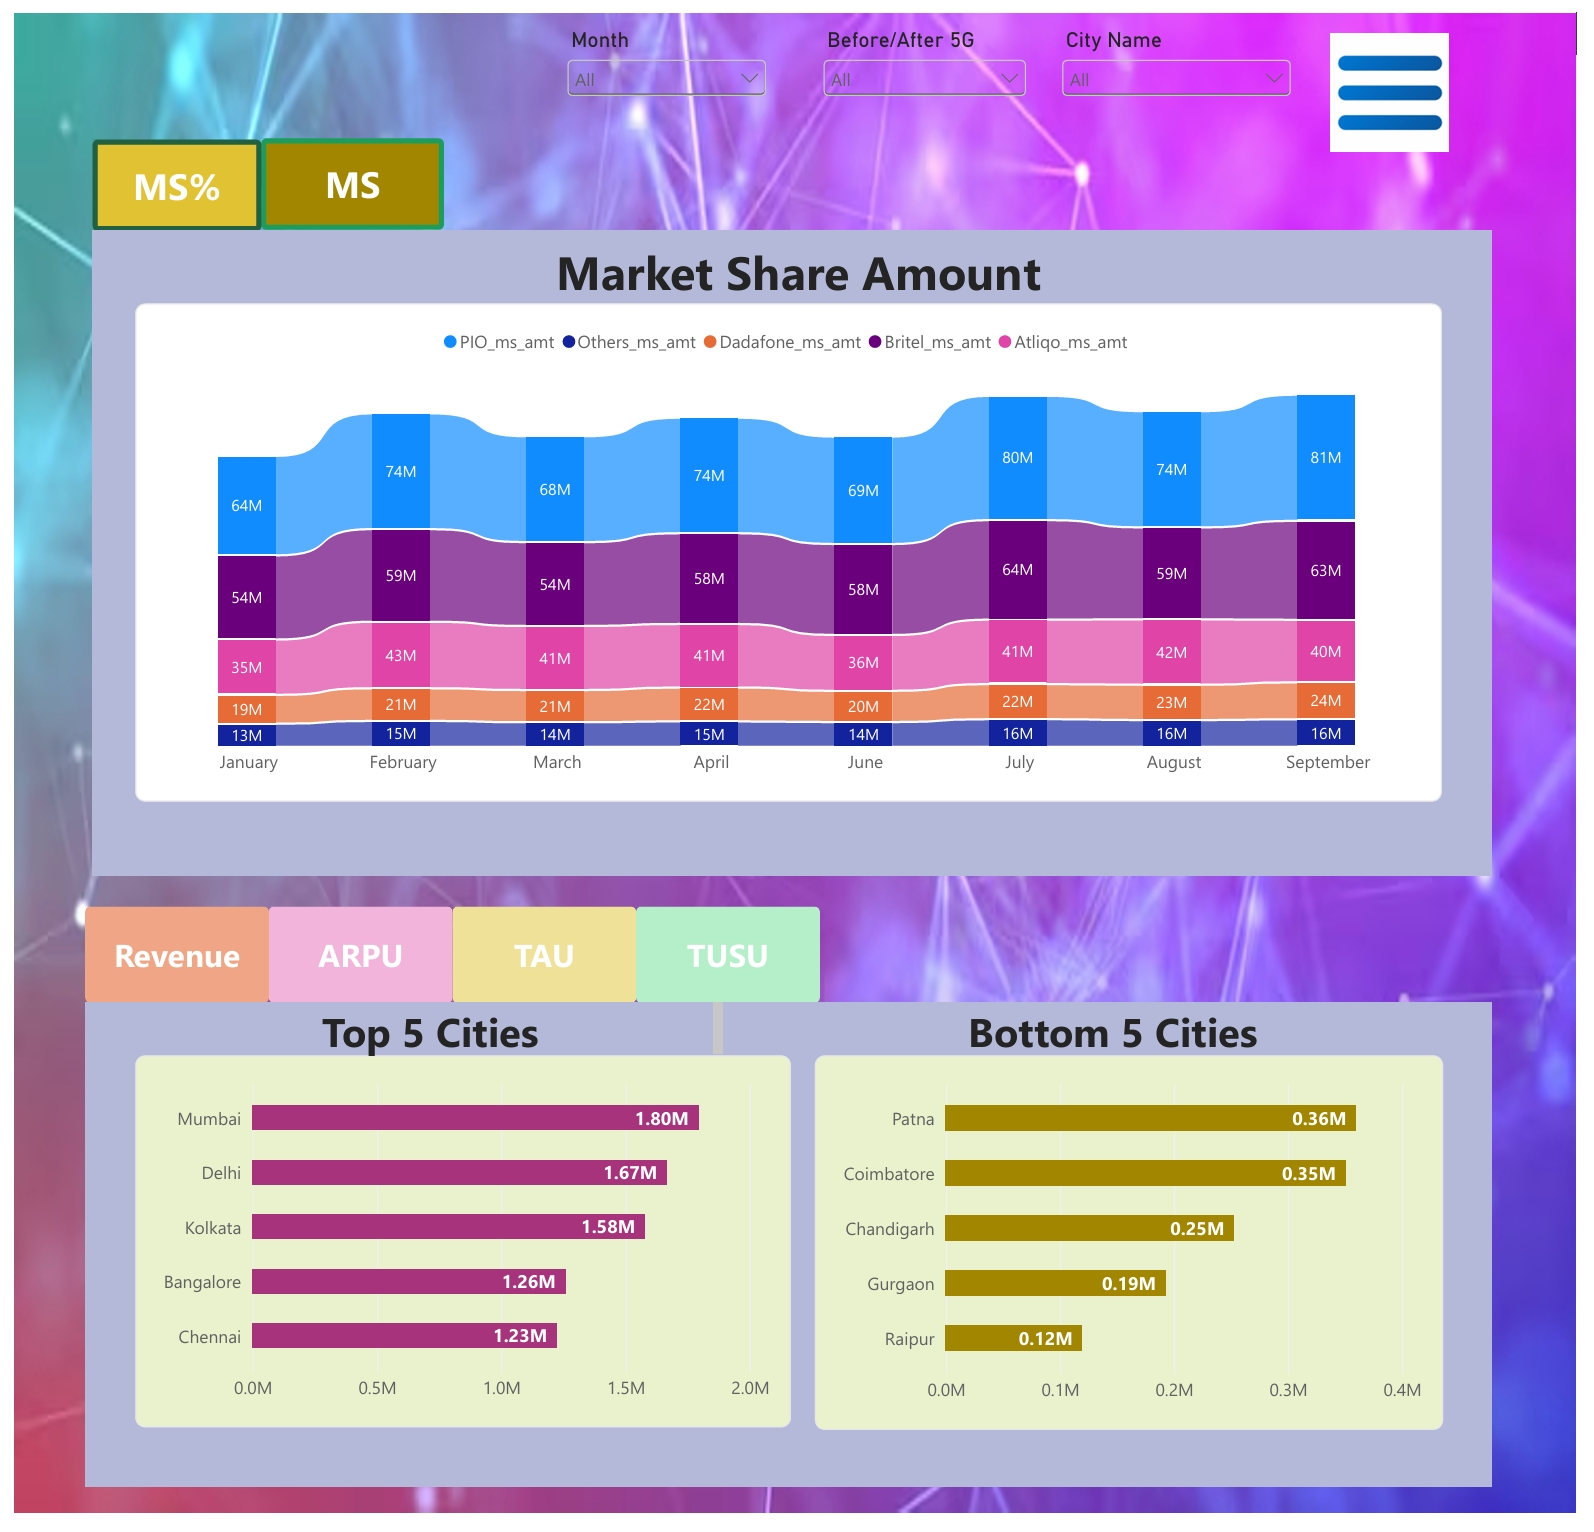

The page's visual inventory and layout, read from the dashboard file:
{"tool":"powerbi","page":{"name":"Market","canvas":[1250,1200],"ordinal":1},"visuals":[{"type":"shape","title":"Rectangle Shape","box":[63,174,1120,517],"z":0,"group":"g1"},{"type":"shape","title":"Rectangle Shape","box":[57,792,1126,388],"z":0},{"type":"shape","title":"Rectangle Shape","box":[57,792,1125,388],"z":0,"group":"g2"},{"type":"actionButton","title":"MS Button","box":[198,100,146.2,72.5],"z":1000},{"type":"ribbonChart","fields":{"Category":["dim_date.date.Variation.Date Hierarchy.Month"],"Y":["Mesaure_Table.PIO_ms_amt","Mesaure_Table.Others_ms_amt","Mesaure_Table.Dadafone_ms_amt","Mesaure_Table.Britel_ms_amt","Mesaure_Table.Atliqo_ms_amt"]},"box":[97,232,1046,399],"z":1000,"group":"g1"},{"type":"clusteredBarChart","fields":{"Category":["dim_cities.city_name"],"Y":["Mesaure_Table.Total_unsub_users"]},"box":[97,834,525,298],"z":1000,"group":"g2"},{"type":"textbox","box":[294,181,668.4,62],"z":2000,"group":"g1"},{"type":"clusteredBarChart","fields":{"Category":["dim_cities.city_name"],"Y":["Mesaure_Table.Total_unsub_users"]},"box":[641,834,503,300],"z":2000,"group":"g2"},{"type":"clusteredBarChart","fields":{"Category":["dim_cities.city_name"],"Y":["Mesaure_Table.ARPU"]},"box":[97,851,505,310],"z":2000},{"type":"actionButton","title":"MS% Button","box":[63,101.2,135,72.5],"z":3000},{"type":"textbox","title":"Top Text","box":[106,792,462.2,41.7],"z":3000,"group":"g2"},{"type":"textbox","title":"Bottom Text","box":[696.2,792,367.2,44.6],"z":4000,"group":"g2"},{"type":"textbox","title":"Top Text","box":[161,803,365,48],"z":5000},{"type":"clusteredBarChart","fields":{"Category":["dim_cities.city_name"],"Y":["Mesaure_Table.ARPU"]},"box":[628,851,521,310],"z":6000},{"type":"group","id":"g1","title":"MS Ribbon","box":[63,174,1120,517],"z":7000},{"type":"textbox","title":"Bottom Text","box":[750,803,283,42],"z":8000},{"type":"actionButton","title":"Revenue Button","box":[57,715,147.4,77.2],"z":9000},{"type":"actionButton","title":"ARPU Button","box":[204,715,147.4,77.2],"z":10000},{"type":"actionButton","title":"TAU Button","box":[351,715,147.4,77.2],"z":11000},{"type":"actionButton","title":"AUSU Button","box":[498,715,147.4,77.2],"z":12000},{"type":"group","id":"g2","title":"5AUSU","box":[57,792,1125,388],"z":15000},{"type":"slicer","fields":{"Values":["dim_date.date.Variation.Date Hierarchy.Month"]},"box":[438,11.2,168.8,82.5],"z":16000},{"type":"slicer","fields":{"Values":["dim_date.before/after_5g"]},"box":[643,11.2,172.5,82.5],"z":17000},{"type":"slicer","fields":{"Values":["dim_cities.city_name"]},"box":[834.2,11.2,192.5,82.5],"z":18000},{"type":"image","title":"Main 3 Image","box":[1054,11,94.6,105.4],"z":19000}]}

Visuals, with their boxes in screenshot pixels (x1, y1, x2, y2), scaled from the page's 1250x1200 canvas onto the 1594x1532 screenshot:
"Rectangle Shape" shape: detection(80, 222, 1509, 882)
"Rectangle Shape" shape: detection(73, 1011, 1509, 1506)
"Rectangle Shape" shape: detection(73, 1011, 1507, 1506)
"MS Button" actionButton: detection(252, 128, 439, 220)
ribbonChart - dim_date.date.Variation.Date Hierarchy.Month x Mesaure_Table.PIO_ms_amt: detection(124, 296, 1458, 806)
clusteredBarChart - dim_cities.city_name x Mesaure_Table.Total_unsub_users: detection(124, 1065, 793, 1445)
textbox: detection(375, 231, 1227, 310)
clusteredBarChart - dim_cities.city_name x Mesaure_Table.Total_unsub_users: detection(817, 1065, 1459, 1448)
clusteredBarChart - dim_cities.city_name x Mesaure_Table.ARPU: detection(124, 1086, 768, 1482)
"MS% Button" actionButton: detection(80, 129, 252, 222)
"Top Text" textbox: detection(135, 1011, 725, 1064)
"Bottom Text" textbox: detection(888, 1011, 1356, 1068)
"Top Text" textbox: detection(205, 1025, 671, 1086)
clusteredBarChart - dim_cities.city_name x Mesaure_Table.ARPU: detection(801, 1086, 1465, 1482)
"MS Ribbon" group: detection(80, 222, 1509, 882)
"Bottom Text" textbox: detection(956, 1025, 1317, 1079)
"Revenue Button" actionButton: detection(73, 913, 261, 1011)
"ARPU Button" actionButton: detection(260, 913, 448, 1011)
"TAU Button" actionButton: detection(448, 913, 636, 1011)
"AUSU Button" actionButton: detection(635, 913, 823, 1011)
"5AUSU" group: detection(73, 1011, 1507, 1506)
slicer - dim_date.date.Variation.Date Hierarchy.Month: detection(559, 14, 774, 120)
slicer - dim_date.before/after_5g: detection(820, 14, 1040, 120)
slicer - dim_cities.city_name: detection(1064, 14, 1309, 120)
"Main 3 Image" image: detection(1344, 14, 1465, 149)
